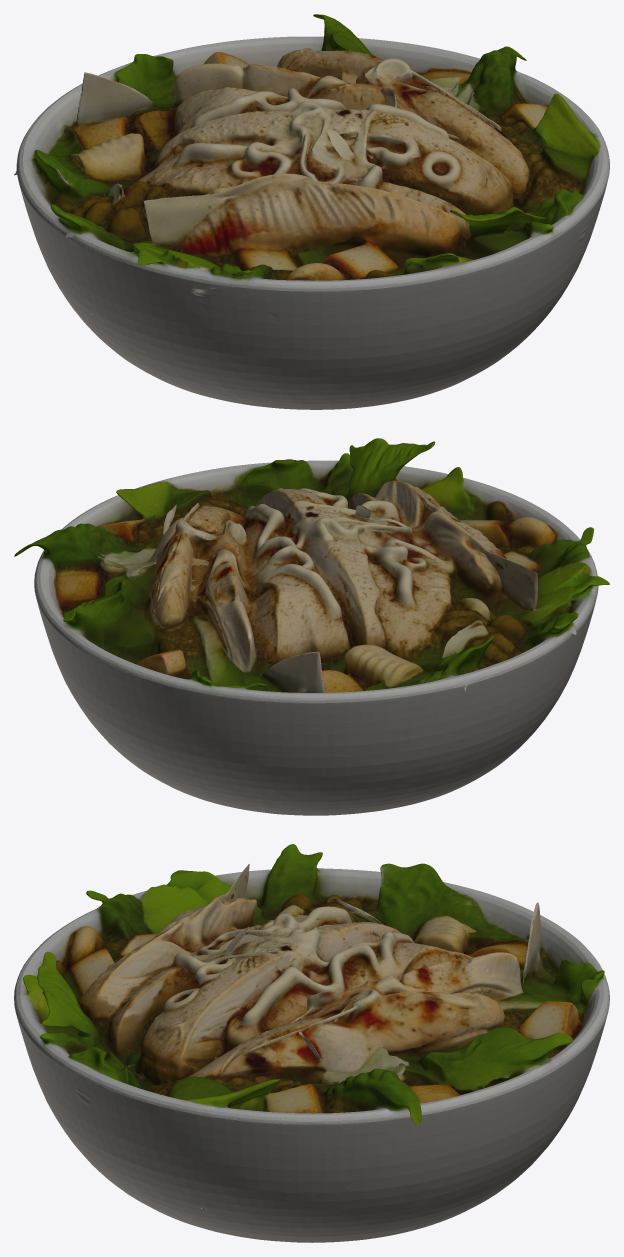
File: salade1-v1.glb
The picture shows the model from 3 angles, top to bottom: view 1: azimuth 30°, elevation 25°; view 2: azimuth 150°, elevation 25°; view 3: azimuth 270°, elevation 25°; orthographic projection. The views are drawn at different scales.
Parts seen in each view (by area): view 1: tripo_node_c4f43577-75c5-4087-bbd0-99156d1bd298; view 2: tripo_node_c4f43577-75c5-4087-bbd0-99156d1bd298; view 3: tripo_node_c4f43577-75c5-4087-bbd0-99156d1bd298.
Boxes of the visible parts, x1=… form: tripo_node_c4f43577-75c5-4087-bbd0-99156d1bd298: x1=14, y1=14, x2=609, y2=409; tripo_node_c4f43577-75c5-4087-bbd0-99156d1bd298: x1=14, y1=438, x2=609, y2=815; tripo_node_c4f43577-75c5-4087-bbd0-99156d1bd298: x1=14, y1=844, x2=609, y2=1242.
Bounding box in the file's own units: 0.9983 × 0.41 × 0.9699.
Materials: 1 (1 with a texture image).
